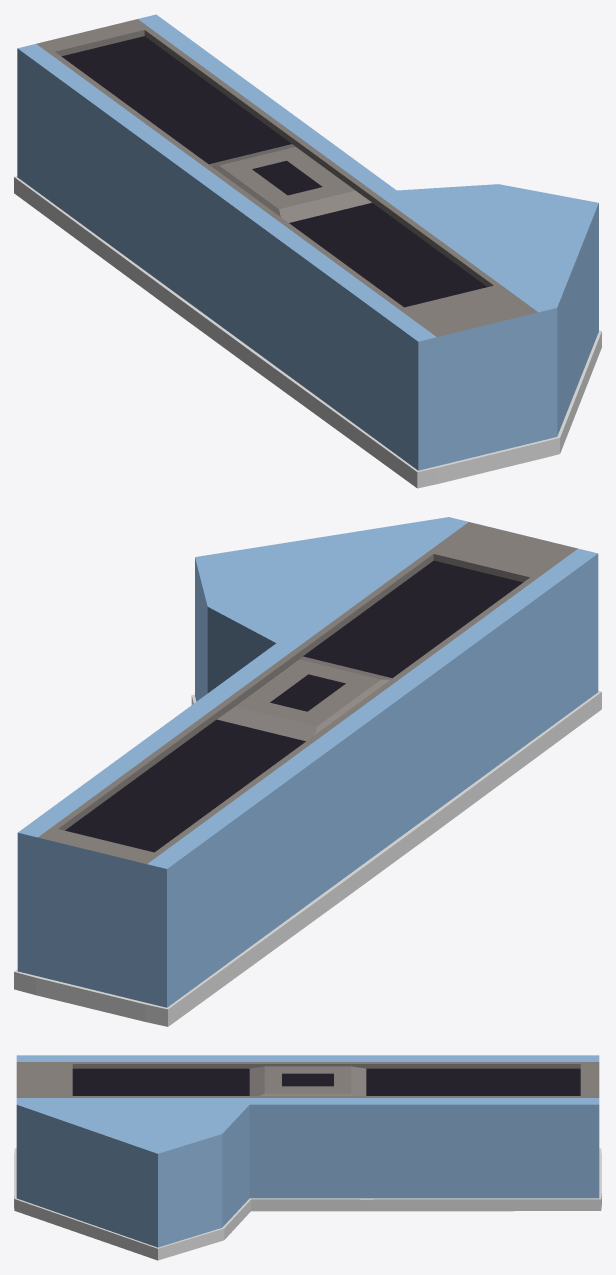
The model's file is cashier.glb.
The picture shows the model from 3 angles, top to bottom: view 1: azimuth 30°, elevation 25°; view 2: azimuth 150°, elevation 25°; view 3: azimuth 270°, elevation 25°; orthographic projection. The views are drawn at different scales.
Parts seen in each view (by area): view 1: cashier; view 2: cashier; view 3: cashier.
Part boxes in pixels (box(x1,y1,x2,y2)): cashier: box(14, 14, 601, 488); cashier: box(14, 517, 601, 1026); cashier: box(14, 1055, 601, 1260).
Bounding box in the file's own units: 2.04 × 1 × 5.04.
